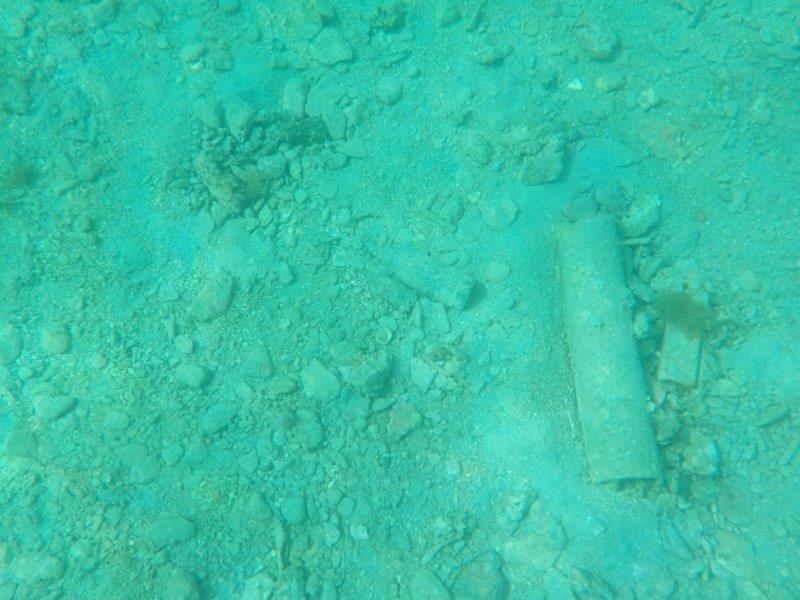bottle: (361, 237, 475, 315)
